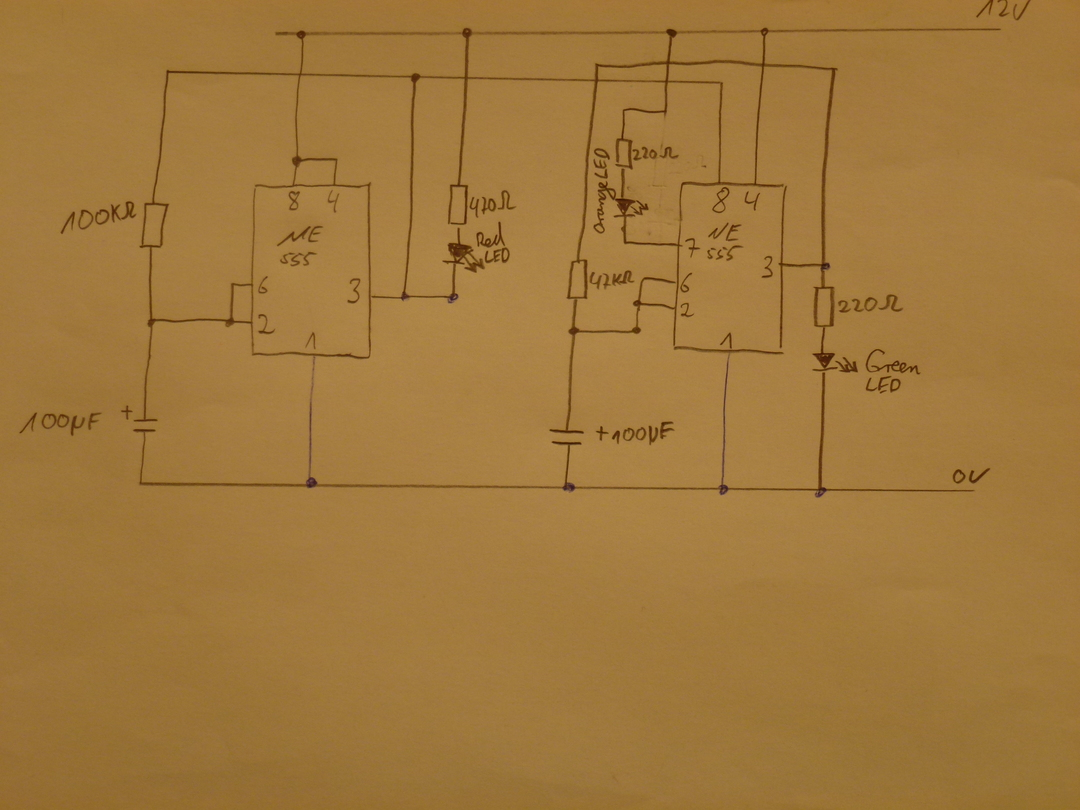capacitor.polarized: (548, 423, 609, 449), (120, 404, 159, 435)
crossover: (758, 60, 770, 71), (294, 69, 307, 79), (461, 73, 473, 83), (663, 58, 674, 68), (591, 76, 602, 85), (662, 77, 671, 86)
diode.light_emitting: (442, 242, 485, 274), (811, 351, 860, 376), (614, 197, 650, 219)
integrated_cricuit.ne555: (248, 182, 373, 361), (672, 181, 788, 355)
junction: (303, 476, 320, 491), (560, 481, 577, 494), (460, 26, 475, 40), (813, 485, 828, 499), (817, 259, 832, 272), (446, 291, 459, 305), (409, 71, 422, 84), (717, 483, 730, 496), (665, 27, 679, 39), (291, 154, 303, 168), (630, 325, 643, 337), (224, 316, 236, 329), (398, 291, 411, 303), (568, 326, 580, 337), (632, 298, 644, 309), (146, 316, 157, 328), (296, 29, 307, 40), (760, 26, 770, 37), (828, 64, 840, 73), (136, 478, 145, 489), (716, 78, 726, 87), (332, 155, 342, 164), (661, 107, 671, 115), (621, 237, 629, 246), (639, 275, 648, 283), (228, 281, 237, 289), (164, 67, 172, 76), (620, 106, 628, 114), (593, 61, 601, 69)
resistor: (139, 200, 170, 250), (446, 181, 470, 229), (812, 284, 836, 330), (565, 258, 590, 302), (614, 135, 634, 170)
terminal: (995, 25, 1005, 34), (969, 486, 978, 495)
text: (864, 348, 921, 394), (60, 201, 137, 235), (592, 147, 616, 234), (19, 412, 102, 436), (277, 226, 323, 267), (611, 421, 674, 445), (476, 221, 511, 264), (706, 223, 744, 262), (469, 189, 517, 218), (837, 294, 904, 314), (976, 1, 1032, 21), (588, 270, 635, 290), (632, 146, 679, 161), (952, 467, 991, 484), (712, 186, 730, 213), (347, 277, 362, 304), (743, 190, 761, 212), (760, 255, 776, 279), (257, 314, 275, 335), (684, 236, 701, 258), (326, 189, 340, 213), (680, 272, 694, 293), (288, 190, 301, 212), (257, 275, 270, 295), (304, 332, 318, 350), (680, 302, 695, 318), (720, 332, 733, 349)
